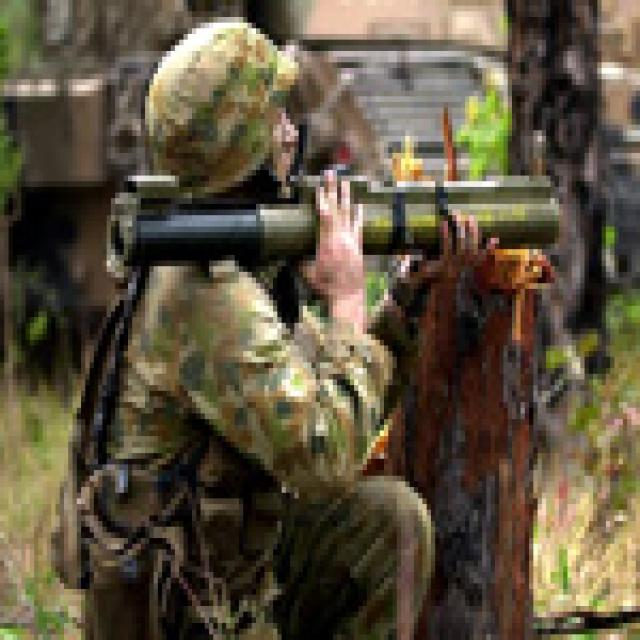bazooka: (87, 167, 573, 283)
